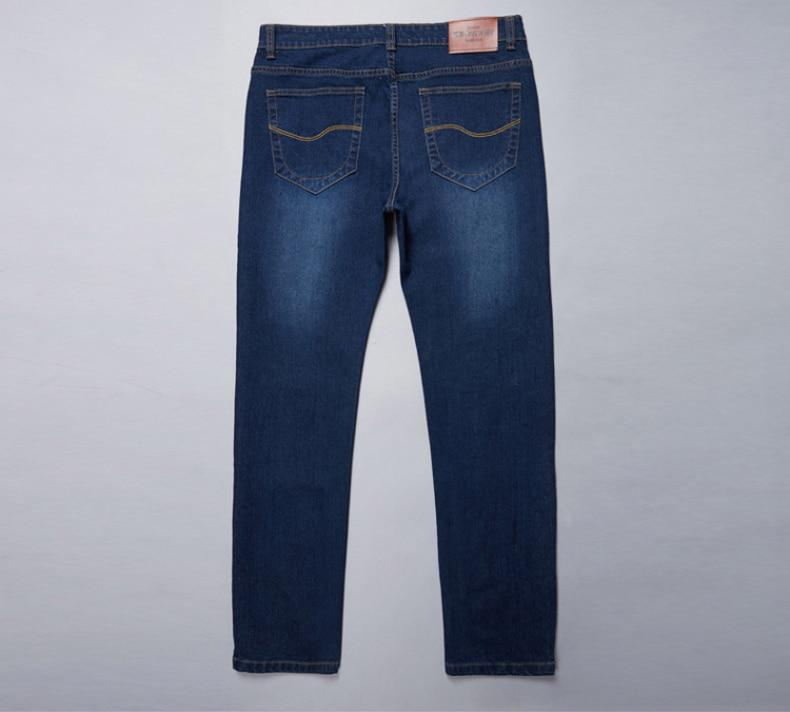jeans: (221, 18, 569, 689)
